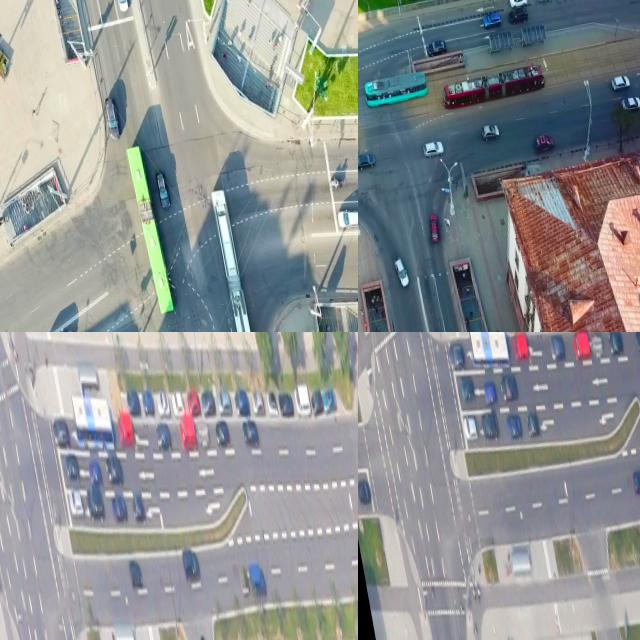UAI: (103, 96, 121, 141), (86, 485, 106, 524), (154, 168, 172, 211), (177, 416, 198, 452), (115, 411, 135, 448), (292, 381, 312, 417), (181, 547, 201, 582), (248, 562, 267, 596), (232, 386, 251, 419), (104, 455, 124, 486), (392, 255, 410, 289), (67, 486, 85, 520), (51, 416, 70, 448), (110, 492, 129, 524), (241, 417, 260, 449), (480, 410, 499, 441), (570, 332, 590, 361), (215, 386, 233, 418), (447, 339, 465, 371), (511, 332, 530, 362), (499, 373, 518, 402), (336, 205, 358, 230), (63, 451, 80, 483), (154, 421, 172, 451), (214, 418, 231, 448), (169, 387, 185, 418), (199, 388, 216, 417), (458, 373, 475, 402), (548, 332, 565, 361), (185, 388, 201, 418), (128, 559, 144, 589), (505, 413, 523, 439), (155, 388, 171, 417), (125, 388, 141, 417), (309, 387, 324, 417), (140, 388, 155, 418), (86, 459, 102, 487), (130, 494, 146, 522), (507, 5, 529, 25), (425, 38, 448, 57), (321, 386, 337, 413), (427, 212, 441, 242), (534, 132, 555, 152), (278, 392, 294, 418), (462, 414, 478, 440), (422, 140, 445, 158), (250, 390, 265, 417), (358, 478, 373, 505), (480, 122, 501, 141), (481, 11, 502, 30), (609, 73, 631, 91), (606, 332, 623, 355), (196, 421, 210, 448), (238, 569, 251, 597), (265, 390, 278, 418), (589, 332, 603, 358), (525, 412, 540, 436), (358, 151, 376, 170), (483, 381, 497, 405), (621, 95, 640, 112), (631, 469, 640, 495), (111, 0, 129, 11), (507, 0, 528, 7), (634, 332, 640, 353)
car: (124, 144, 174, 314), (209, 187, 255, 332), (439, 63, 548, 110), (69, 386, 116, 454), (363, 71, 428, 107), (467, 332, 511, 371)
